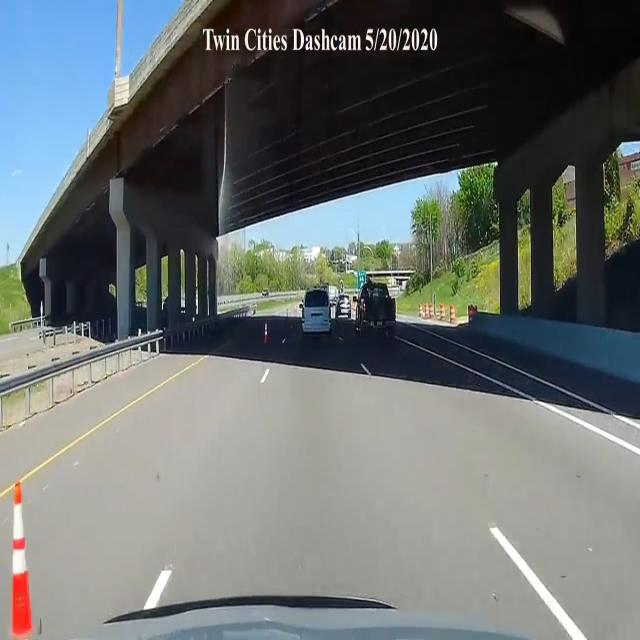cone: (5, 480, 38, 640)
